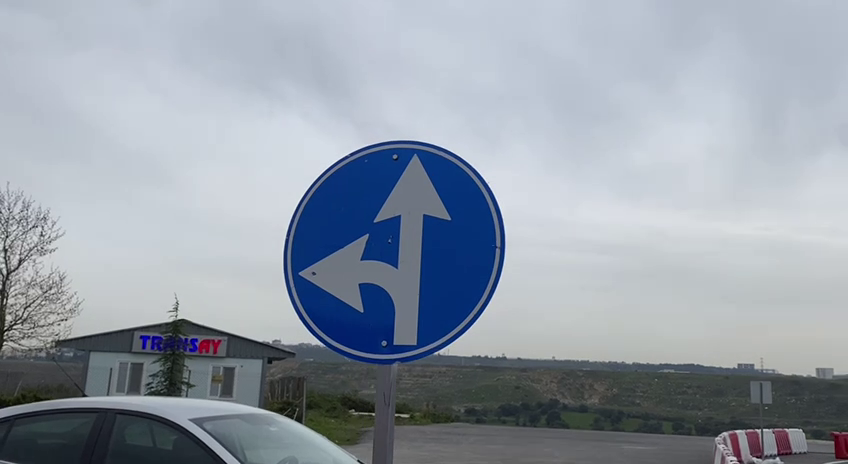forwardAndLeft: (273, 137, 510, 365)
